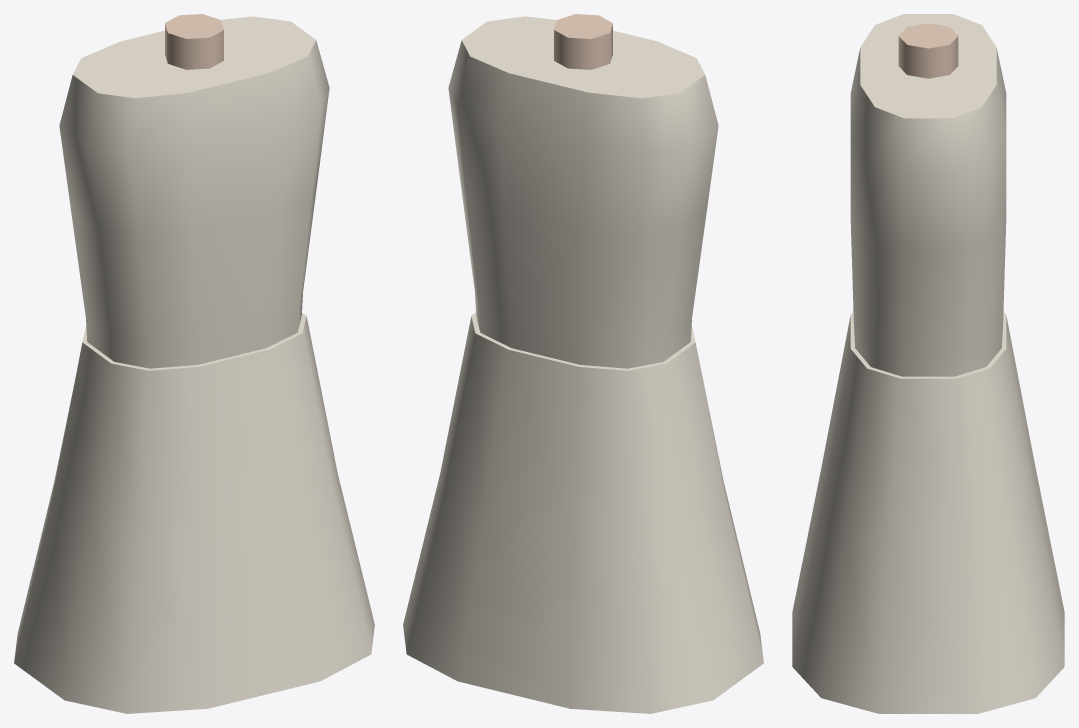
Rendered from torso_dress.glb.
3 renders of one model, left to right at view 1: azimuth 30°, elevation 25°; view 2: azimuth 150°, elevation 25°; view 3: azimuth 270°, elevation 25°, orthographic. The views are drawn at different scales.
Visible parts, largest first — view 1: torso_dress; view 2: torso_dress; view 3: torso_dress.
Boxes of the visible parts, x1,y1,x2,y2 form: torso_dress: [14, 14, 374, 713]; torso_dress: [403, 14, 763, 713]; torso_dress: [792, 14, 1064, 713].
Bounding box in the file's own units: 0.5258 × 1 × 0.4089.
